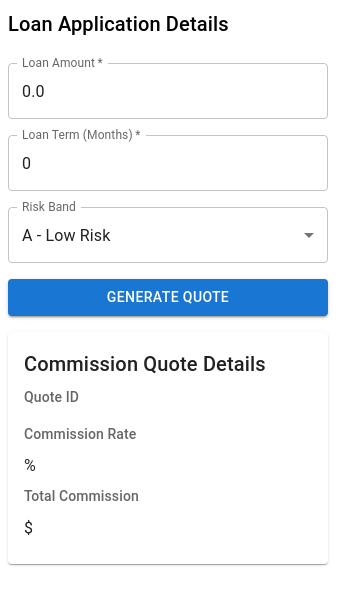
Test case: renders the quote result on successful submit
The width and height of the screenshot is (346, 607).
Replace the text in the number field with test id "loan-amount-input" with "10000" at [168, 91], box [8,63,328,119]
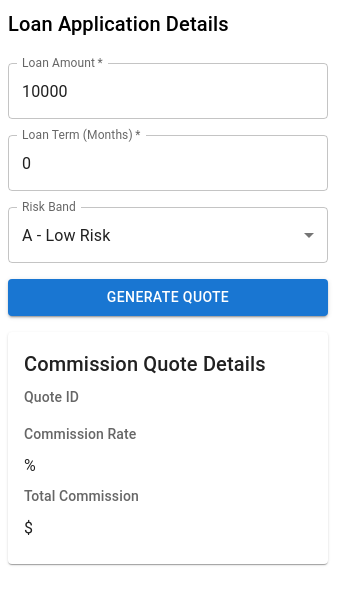
Replace the text in the number field with test id "loan-term-months-input" with "24" at [168, 163], box [8,135,328,191]
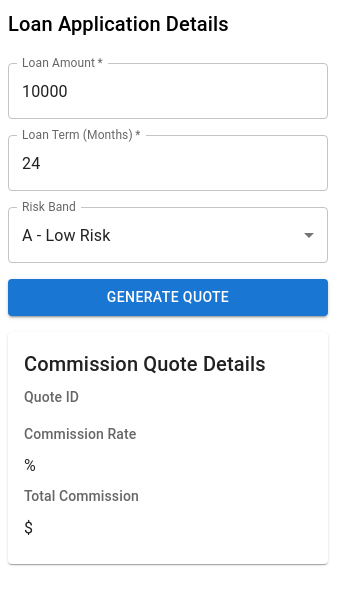
Click the button with test id "generate-quote-button" at [168, 297], box [8,279,328,316]
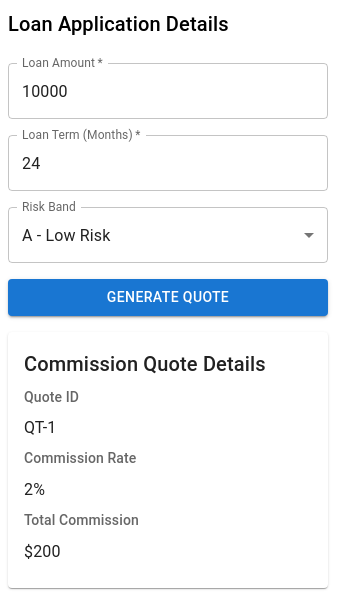
Expected: the text with test id "quote-id-value" reads "QT-1", [24,418,56,438]
Expected: the text with test id "commission-rate-value" reads "2%", [24,480,45,499]
Expected: the text with test id "total-commission-value" reads "$200", [24,542,61,561]
